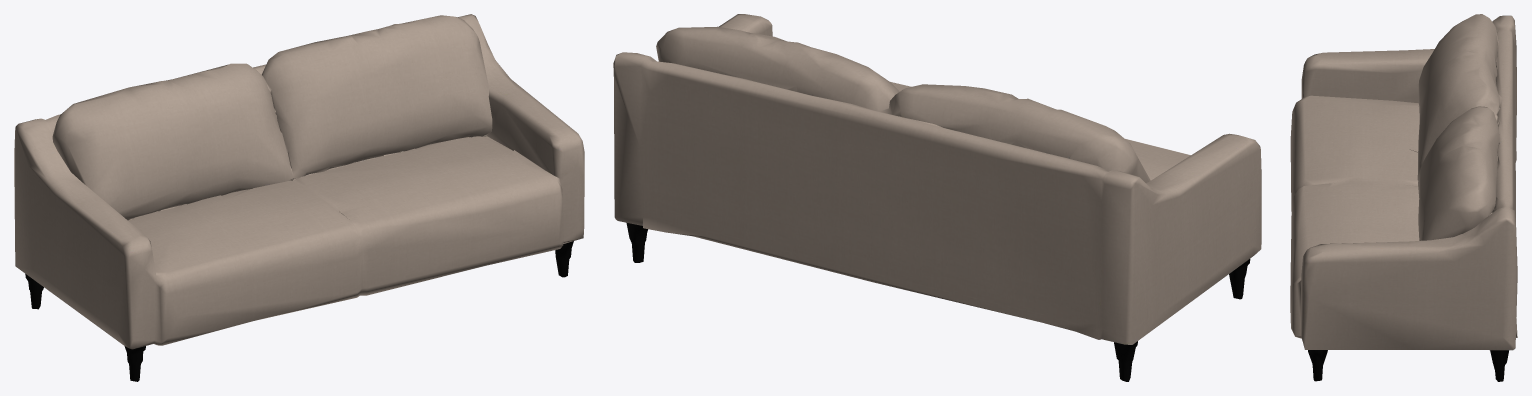
3 renders of one model, left to right at view 1: azimuth 30°, elevation 25°; view 2: azimuth 150°, elevation 25°; view 3: azimuth 270°, elevation 25°, orthographic. The views are drawn at different scales.
Parts seen in each view (by area): view 1: ASY_ART_10618501_S01_NV01; view 2: ASY_ART_10618501_S01_NV01; view 3: ASY_ART_10618501_S01_NV01.
Boxes of the visible parts, x1,y1,x2,y2 form: ASY_ART_10618501_S01_NV01: (14,14,584,381); ASY_ART_10618501_S01_NV01: (613,14,1261,381); ASY_ART_10618501_S01_NV01: (1290,14,1517,381).
Bounding box in the file's own units: 1.83 × 0.7941 × 0.8506.
Materials: 1 (1 with a texture image).
